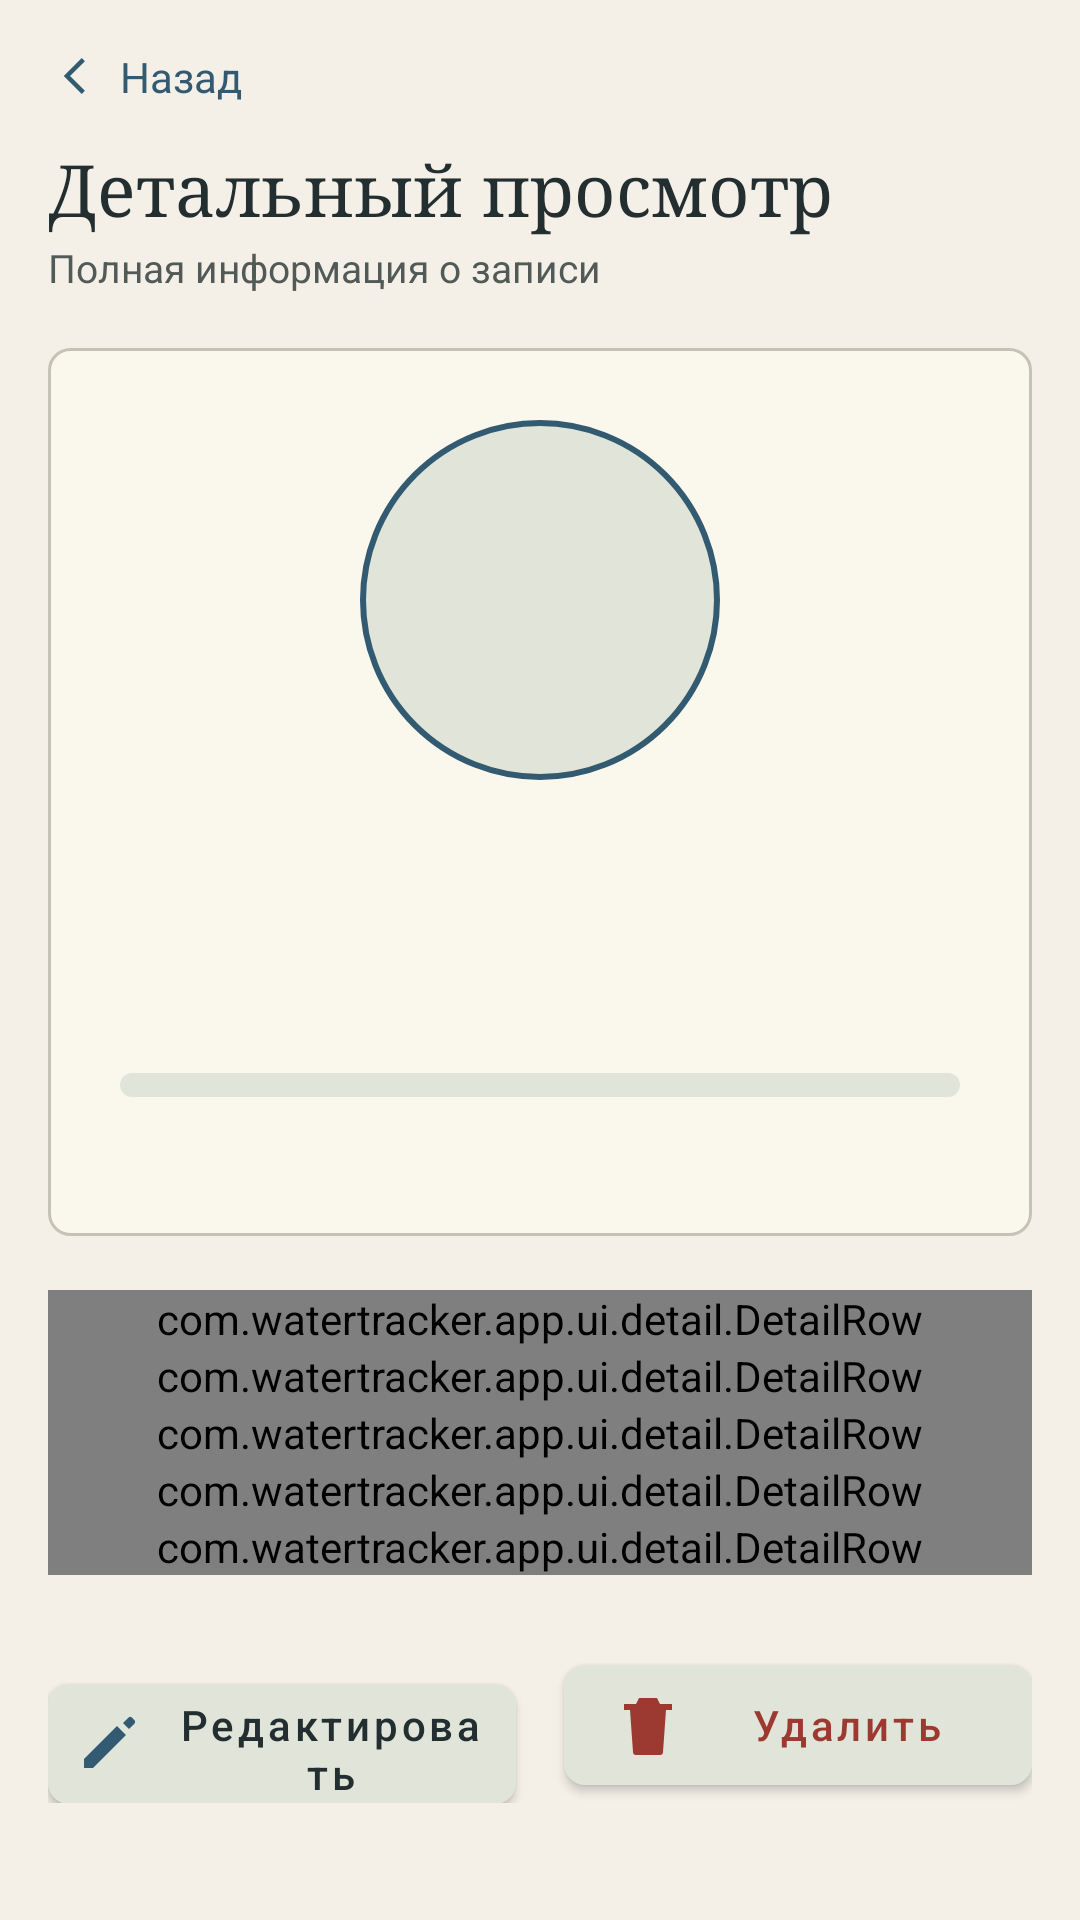

Icon bounding boxes for this 1080px×1920px phone screenshot, format [x1, y1, x2, y2]:
back: [64, 58, 85, 94]
